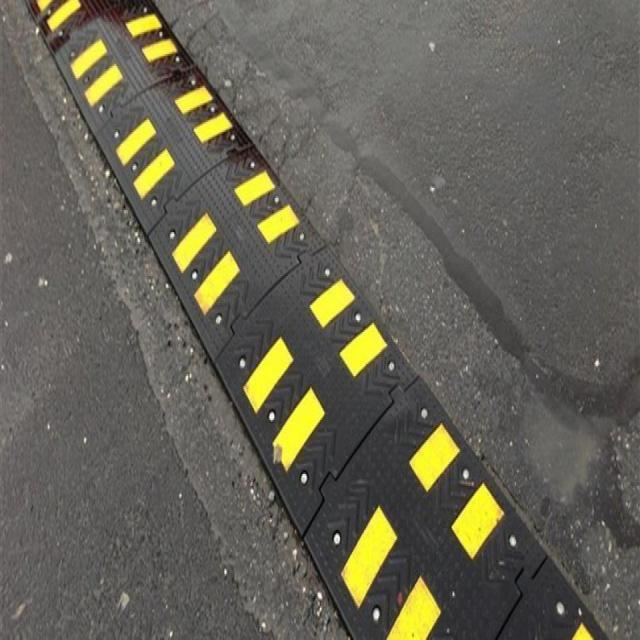speedbreaker: (18, 0, 606, 640)
